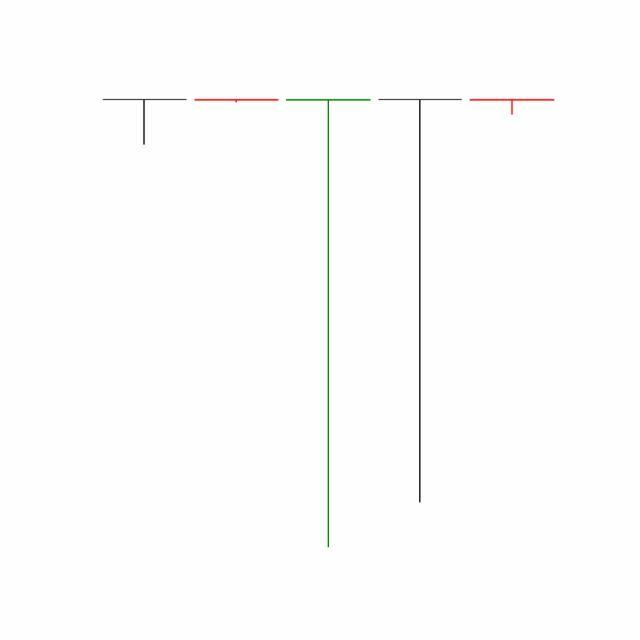Dragonfly Doji: (374, 95, 468, 508)
